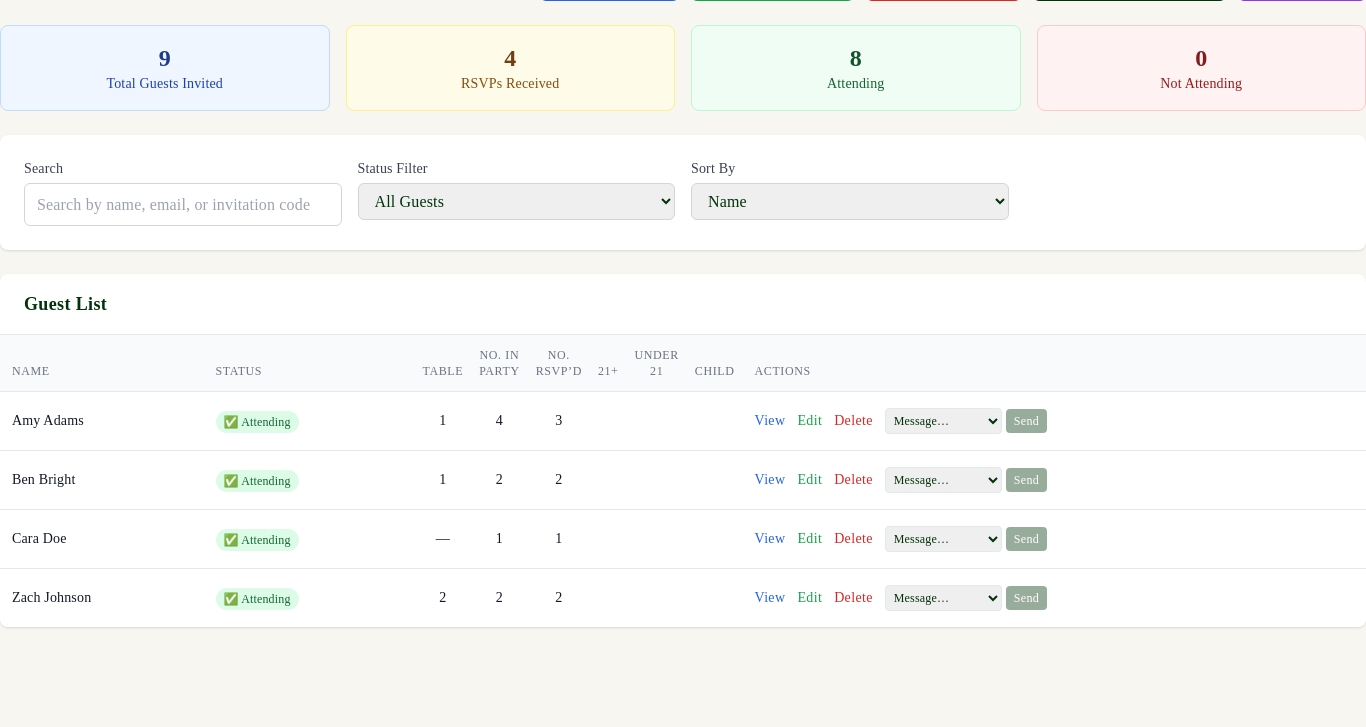
Test: sorted by table number › collects the unassigned parties last
expect the text "Amy Adams" is shown: met, box x1=12 y1=413 x2=84 y2=428
Select "Table Number" in the dropdown labelled "Sort By" at (850, 201), box x1=691 y1=183 x2=1008 y2=220
(page scrolled)
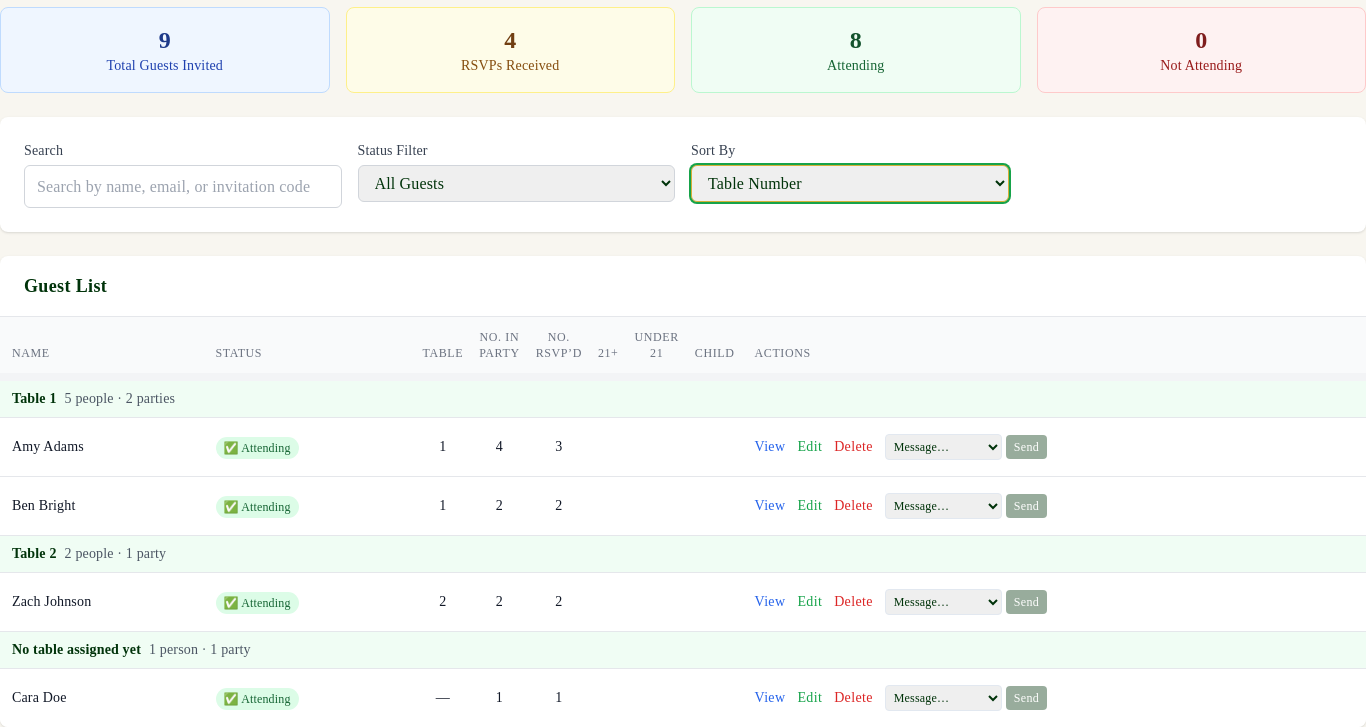
expect the row "Cara Doe ✅ Attending — 1 1 View Edit Delete Send" is shown: met, box x1=0 y1=669 x2=1365 y2=726
expect the text "No table assigned yet1 person · 1 party" is shown: met, box x1=0 y1=632 x2=1365 y2=669
